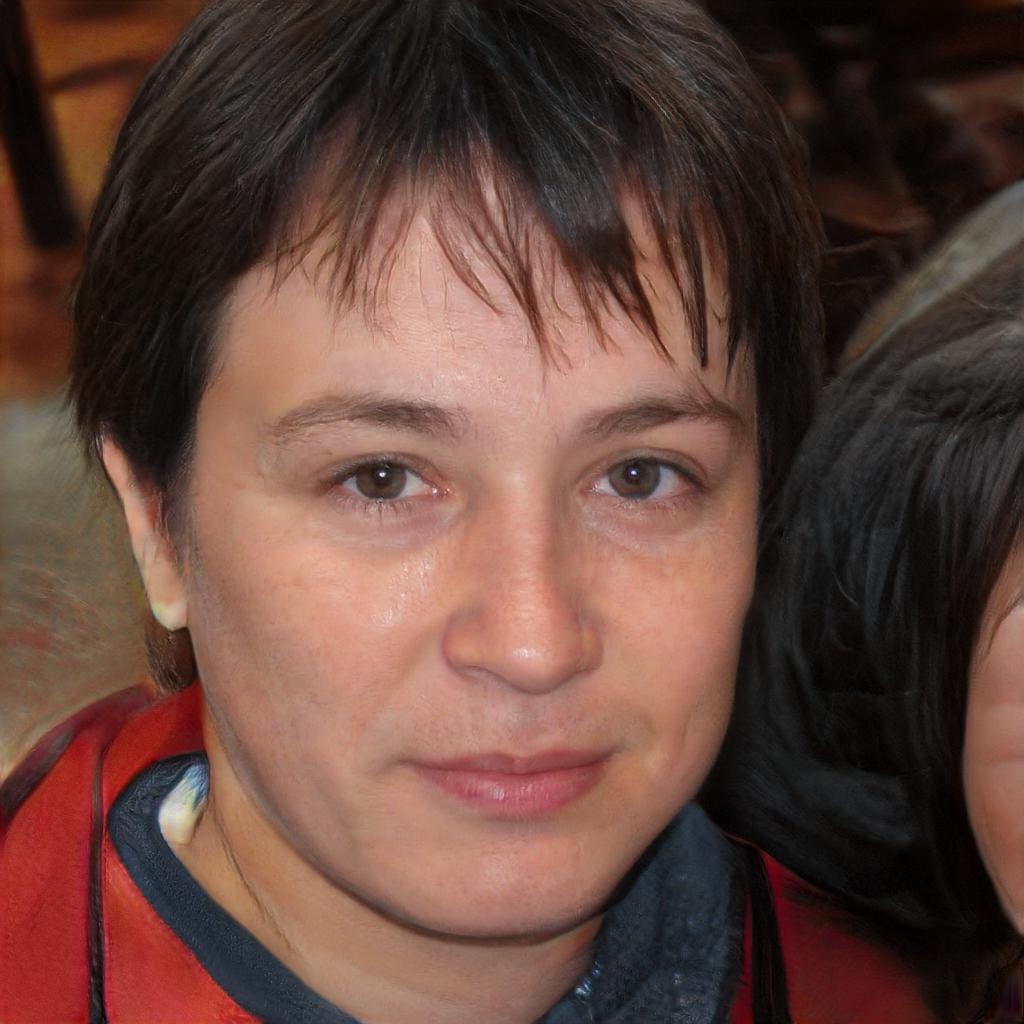face: (189, 190, 761, 938)
